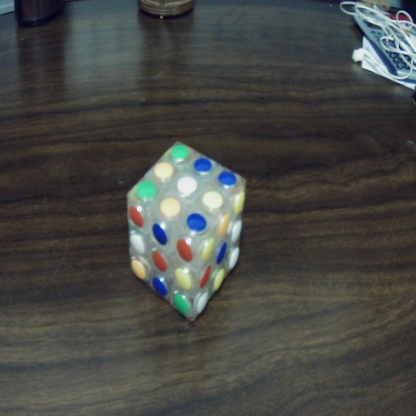Rubix Cube: (124, 142, 245, 320)
